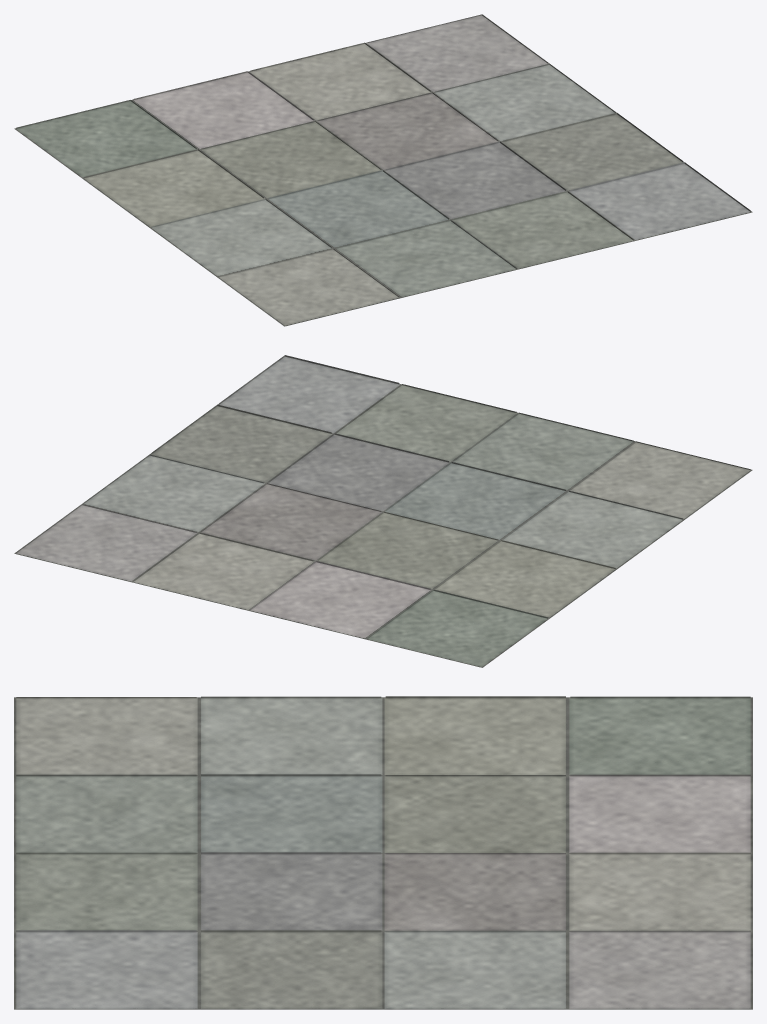
The model's file is E07_SOLOZ2_P2_PISO_FRONTAL_CONCRETO_BASE.glb.
The picture shows the model from 3 angles, top to bottom: view 1: azimuth 30°, elevation 25°; view 2: azimuth 150°, elevation 25°; view 3: azimuth 270°, elevation 25°; orthographic projection. The views are drawn at different scales.
Parts seen in each view (by area): view 1: substrato_pbr_juntas, pecas_minerais_relevo_3d; view 2: substrato_pbr_juntas, pecas_minerais_relevo_3d; view 3: substrato_pbr_juntas, pecas_minerais_relevo_3d.
Boxes of the visible parts, x1,y1,x2,y2 form: substrato_pbr_juntas: (14,14,752,326); pecas_minerais_relevo_3d: (16,14,750,297); substrato_pbr_juntas: (14,356,752,667); pecas_minerais_relevo_3d: (16,355,750,638); substrato_pbr_juntas: (14,697,752,1009); pecas_minerais_relevo_3d: (16,696,750,932).
Bounding box in the file's own units: 2 × 0.0065 × 2.
1 material, 1 textured.
